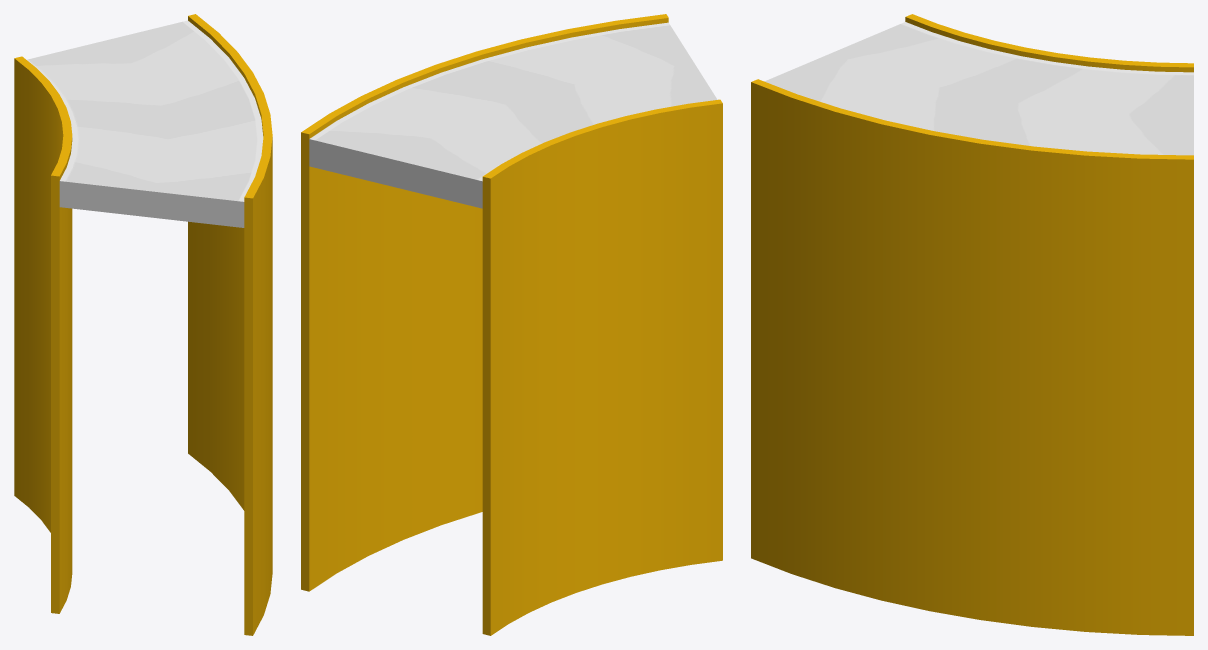
The model's file is Abstract_Path_3.fbx.
The picture shows the model from 3 angles, left to right: view 1: azimuth 30°, elevation 25°; view 2: azimuth 150°, elevation 25°; view 3: azimuth 270°, elevation 25°; orthographic projection. The views are drawn at different scales.
Parts seen in each view (by area): view 1: polySurface4, polySurface3; view 2: polySurface4, polySurface3; view 3: polySurface4, polySurface3.
Boxes of the visible parts, x1,y1,x2,y2 form: polySurface4: (14,14,272,635); polySurface3: (26,20,263,227); polySurface4: (301,14,722,635); polySurface3: (309,22,717,208); polySurface4: (751,14,1193,635); polySurface3: (764,22,1193,155).
Size of the model in its own units: 303 by 462 by 389.
2 materials, 2 textured.
